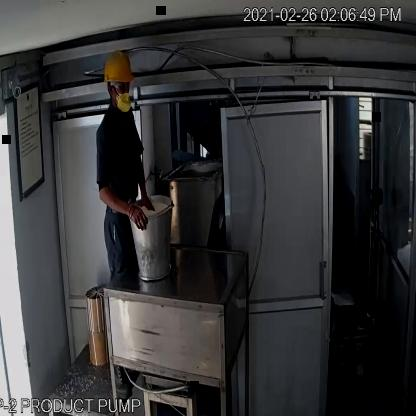helmet: (100, 47, 138, 87)
